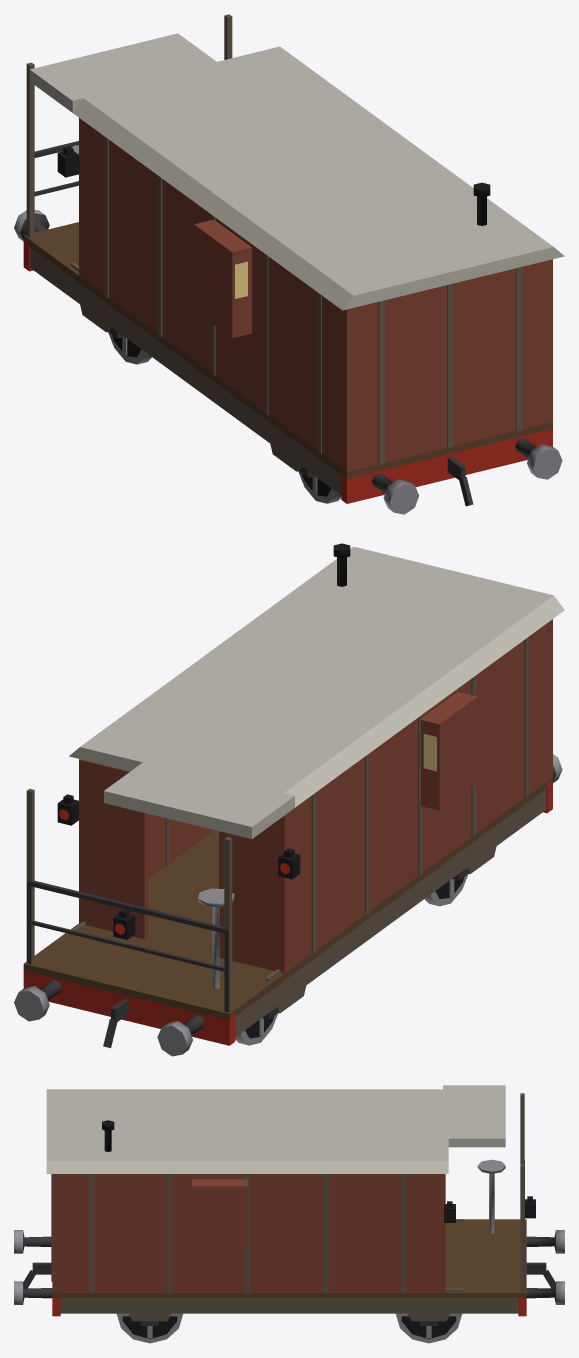
Rendered from van_brake.glb.
The picture shows the model from 3 angles, top to bottom: view 1: azimuth 30°, elevation 25°; view 2: azimuth 150°, elevation 25°; view 3: azimuth 270°, elevation 25°; orthographic projection. The views are drawn at different scales.
Parts seen in each view (by area): view 1: Body, Wheel1, Wheel2; view 2: Body, Wheel2, Wheel1; view 3: Body, Wheel1, Wheel2.
Boxes of the visible parts, x1,y1,x2,y2 form: Body: (14, 14, 564, 514); Wheel1: (108, 332, 151, 364); Wheel2: (298, 471, 341, 503); Body: (14, 543, 564, 1056); Wheel2: (425, 874, 468, 906); Wheel1: (235, 1013, 278, 1045); Body: (14, 1085, 564, 1325); Wheel1: (396, 1313, 461, 1343); Wheel2: (117, 1313, 182, 1343).
Size of the model in its own units: 2.98 by 3.5 by 7.9.
